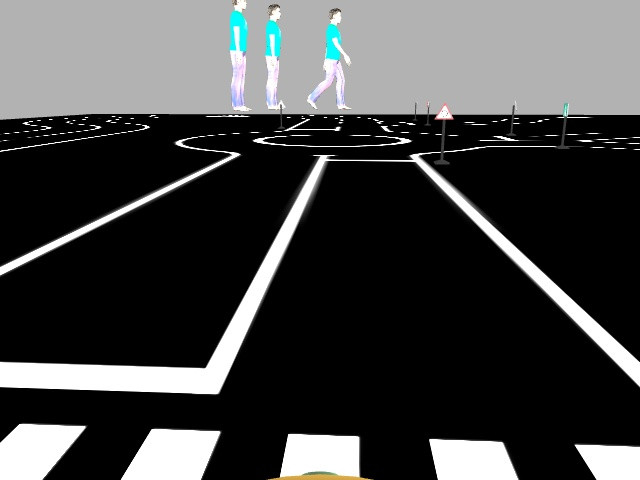Roundabout: (433, 102, 454, 120)
